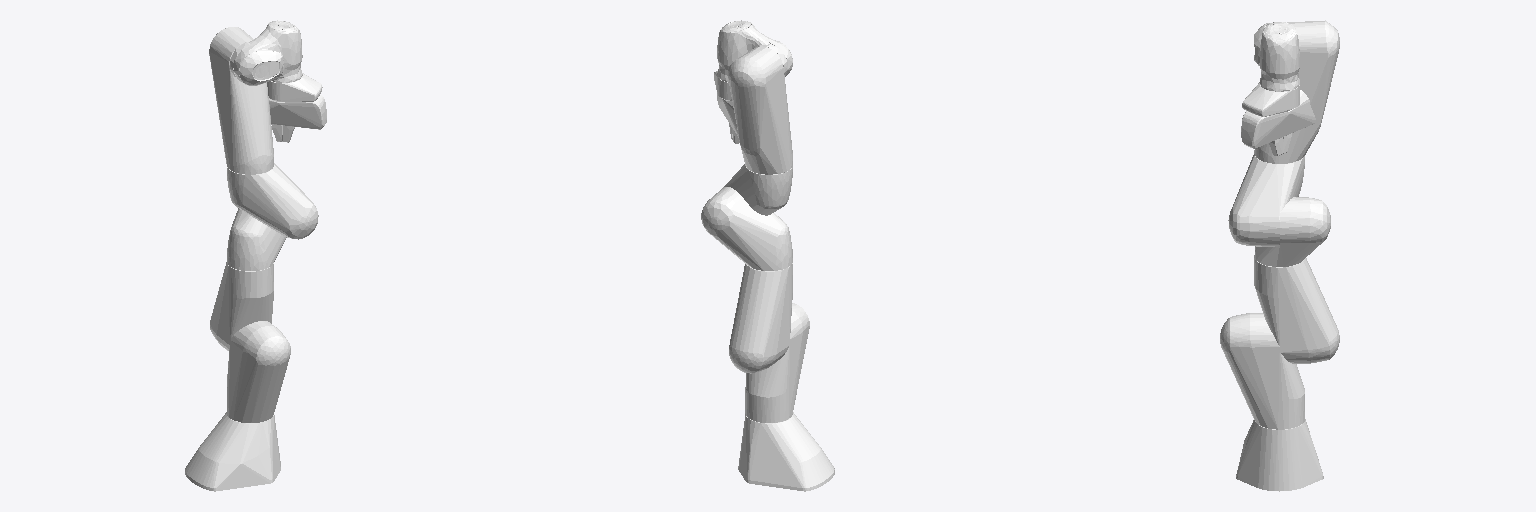
URDF robot description (panda):
<?xml version="1.0" ?>
<!-- =================================================================================== -->
<!-- |    This document was autogenerated by xacro from panda_arm_hand.urdf.xacro      | -->
<!-- |    EDITING THIS FILE BY HAND IS NOT RECOMMENDED                                 | -->
<!-- =================================================================================== -->
<robot name="panda" xmlns:xacro="http://www.ros.org/wiki/xacro">
  <link name="panda_link0">
  	<inertial>
      <origin rpy="0 0 0" xyz="0 0 0.05"/>
       <mass value="2.9"/>
       <inertia ixx="0.1" ixy="0" ixz="0" iyy="0.1" iyz="0" izz="0.1"/>
    </inertial>
    <visual>
      <geometry>
        <mesh filename="package://percept/assets/robots/franka_panda/meshes/collision/link0.obj"/>
      </geometry>
      <material name="panda_white">
    		<color rgba="1. 1. 1. 1."/>
  		</material>
    </visual>
    <collision>
      <geometry>
        <mesh filename="package://percept/assets/robots/franka_panda/meshes/collision/link0.obj"/>
      </geometry>
      <material name="panda_white"/>
    </collision>
  </link>
  <link name="panda_link1">
  	<inertial>
      <origin rpy="0 0 0" xyz="0 -0.04 -0.05"/>
       <mass value="2.7"/>
       <inertia ixx="0.1" ixy="0" ixz="0" iyy="0.1" iyz="0" izz="0.1"/>
    </inertial>
    <visual>
      <geometry>
        <mesh filename="package://percept/assets/robots/franka_panda/meshes/visual/link1.obj"/>
      </geometry>
      <material name="panda_white"/>
    </visual>
    <collision>
      <geometry>
        <mesh filename="package://percept/assets/robots/franka_panda/meshes/collision/link1.obj"/>
      </geometry>
      <material name="panda_white"/>
    </collision>
  </link>
  <joint name="panda_joint1" type="revolute">
    <safety_controller k_position="100.0" k_velocity="40.0" soft_lower_limit="-2.8973" soft_upper_limit="2.8973"/>
    <origin rpy="0 0 0" xyz="0 0 0.333"/>
    <parent link="panda_link0"/>
    <child link="panda_link1"/>
    <axis xyz="0 0 1"/>
    <limit effort="87" lower="-2.9671" upper="2.9671" velocity="2.1750"/>
  </joint>
  <link name="panda_link2">
  	<inertial>
      <origin rpy="0 0 0" xyz="0 -0.04 0.06"/>
       <mass value="2.73"/>
       <inertia ixx="0.1" ixy="0" ixz="0" iyy="0.1" iyz="0" izz="0.1"/>
    </inertial>
    <visual>
      <geometry>
        <mesh filename="package://percept/assets/robots/franka_panda/meshes/visual/link2.obj"/>
      </geometry>
      <material name="panda_white"/>
    </visual>
    <collision>
      <geometry>
        <mesh filename="package://percept/assets/robots/franka_panda/meshes/collision/link2.obj"/>
      </geometry>
      <material name="panda_white"/>
    </collision>
  </link>
  <joint name="panda_joint2" type="revolute">
    <safety_controller k_position="100.0" k_velocity="40.0" soft_lower_limit="-1.7628" soft_upper_limit="1.7628"/>
    <origin rpy="-1.57079632679 0 0" xyz="0 0 0"/>
    <parent link="panda_link1"/>
    <child link="panda_link2"/>
    <axis xyz="0 0 1"/>
    <limit effort="87" lower="-1.8326" upper="1.8326" velocity="2.1750"/>
  </joint>
  <link name="panda_link3">
	  <inertial>
      <origin rpy="0 0 0" xyz="0.01 0.01 -0.05"/>
       <mass value="2.04"/>
       <inertia ixx="0.1" ixy="0" ixz="0" iyy="0.1" iyz="0" izz="0.1"/>
    </inertial>
    <visual>
      <geometry>
        <mesh filename="package://percept/assets/robots/franka_panda/meshes/visual/link3.obj"/>
      </geometry>
      <material name="panda_red">
    		<color rgba="1. 1. 1. 1."/>
  		</material>
    </visual>
    <collision>
      <geometry>
        <mesh filename="package://percept/assets/robots/franka_panda/meshes/collision/link3.obj"/>
      </geometry>
    </collision>
  </link>
  <joint name="panda_joint3" type="revolute">
    <safety_controller k_position="100.0" k_velocity="40.0" soft_lower_limit="-2.8973" soft_upper_limit="2.8973"/>
    <origin rpy="1.57079632679 0 0" xyz="0 -0.316 0"/>
    <parent link="panda_link2"/>
    <child link="panda_link3"/>
    <axis xyz="0 0 1"/>
    <limit effort="87" lower="-2.9671" upper="2.9671" velocity="2.1750"/>
  </joint>
  <link name="panda_link4">
  	<inertial>
      <origin rpy="0 0 0" xyz="-0.03 0.03 0.02"/>
       <mass value="2.08"/>
       <inertia ixx="0.1" ixy="0" ixz="0" iyy="0.1" iyz="0" izz="0.1"/>
    </inertial>
    <visual>
      <geometry>
        <mesh filename="package://percept/assets/robots/franka_panda/meshes/visual/link4.obj"/>
      </geometry>
      <material name="panda_white"/>
    </visual>
    <collision>
      <geometry>
        <mesh filename="package://percept/assets/robots/franka_panda/meshes/collision/link4.obj"/>
      </geometry>
      <material name="panda_white"/>
    </collision>
  </link>
  <joint name="panda_joint4" type="revolute">
    <safety_controller k_position="100.0" k_velocity="40.0" soft_lower_limit="-3.0718" soft_upper_limit="-0.0698"/>
    <origin rpy="1.57079632679 0 0" xyz="0.0825 0 0"/>
    <parent link="panda_link3"/>
    <child link="panda_link4"/>
    <axis xyz="0 0 1"/>
    <limit effort="87" lower="-3.1416" upper="0.0" velocity="2.1750"/>
  </joint>
  <link name="panda_link5">
  	<inertial>
      <origin rpy="0 0 0" xyz="0 0.04 -0.12"/>
       <mass value="3"/>
       <inertia ixx="0.1" ixy="0" ixz="0" iyy="0.1" iyz="0" izz="0.1"/>
    </inertial>
    <visual>
      <geometry>
        <mesh filename="package://percept/assets/robots/franka_panda/meshes/visual/link5.obj"/>
      </geometry>
      <material name="panda_white"/>
    </visual>
    <collision>
      <geometry>
        <mesh filename="package://percept/assets/robots/franka_panda/meshes/collision/link5.obj"/>
      </geometry>
      <material name="panda_white"/>
    </collision>
  </link>
  <joint name="panda_joint5" type="revolute">
    <safety_controller k_position="100.0" k_velocity="40.0" soft_lower_limit="-2.8973" soft_upper_limit="2.8973"/>
    <origin rpy="-1.57079632679 0 0" xyz="-0.0825 0.384 0"/>
    <parent link="panda_link4"/>
    <child link="panda_link5"/>
    <axis xyz="0 0 1"/>
    <limit effort="12" lower="-2.9671" upper="2.9671" velocity="2.6100"/>
  </joint>
  <link name="panda_link6">
  	<inertial>
      <origin rpy="0 0 0" xyz="0.04 0 0"/>
       <mass value="1.3"/>
       <inertia ixx="0.1" ixy="0" ixz="0" iyy="0.1" iyz="0" izz="0.1"/>
    </inertial>
    <visual>
      <geometry>
        <mesh filename="package://percept/assets/robots/franka_panda/meshes/visual/link6.obj"/>
      </geometry>
      <material name="panda_white"/>
    </visual>
    <collision>
      <geometry>
        <mesh filename="package://percept/assets/robots/franka_panda/meshes/collision/link6.obj"/>
      </geometry>
      <material name="panda_white"/>
    </collision>
  </link>
  <joint name="panda_joint6" type="revolute">
    <safety_controller k_position="100.0" k_velocity="40.0" soft_lower_limit="-0.0175" soft_upper_limit="3.7525"/>
    <origin rpy="1.57079632679 0 0" xyz="0 0 0"/>
    <parent link="panda_link5"/>
    <child link="panda_link6"/>
    <axis xyz="0 0 1"/>
    <limit effort="12" lower="-0.0873" upper="3.8223" velocity="2.6100"/>
  </joint>
  <link name="panda_link7">
  	<inertial>
      <origin rpy="0 0 0" xyz="0 0 0.08"/>
       <mass value=".2"/>
       <inertia ixx="0.1" ixy="0" ixz="0" iyy="0.1" iyz="0" izz="0.1"/>
    </inertial>
    <visual>
      <geometry>
        <mesh filename="package://percept/assets/robots/franka_panda/meshes/collision/link7.obj"/>
      </geometry>
      <material name="panda_white"/>
    </visual>
    <collision>
      <geometry>
        <mesh filename="package://percept/assets/robots/franka_panda/meshes/collision/link7.obj"/>
      </geometry>
      <material name="panda_white"/>
    </collision>
  </link>
  <joint name="panda_joint7" type="revolute">
    <safety_controller k_position="100.0" k_velocity="40.0" soft_lower_limit="-2.8973" soft_upper_limit="2.8973"/>
    <origin rpy="1.57079632679 0 0" xyz="0.088 0 0"/>
    <parent link="panda_link6"/>
    <child link="panda_link7"/>
    <axis xyz="0 0 1"/>
    <limit effort="12" lower="-2.9671" upper="2.9671" velocity="2.6100"/>
  </joint>
  <link name="panda_link8">
  	 <inertial>
      <origin rpy="0 0 0" xyz="0 0 0"/>
       <mass value="0.0"/>
       <inertia ixx="0.1" ixy="0" ixz="0" iyy="0.1" iyz="0" izz="0.1"/>
    </inertial>
  </link>
  <joint name="panda_joint8" type="fixed">
    <origin rpy="0 0 0" xyz="0 0 0.107"/>
    <parent link="panda_link7"/>
    <child link="panda_link8"/>
    <axis xyz="0 0 0"/>
  </joint>
  <joint name="panda_hand_joint" type="fixed">
    <parent link="panda_link8"/>
    <child link="panda_hand"/>
    <origin rpy="0 0 -0.785398163397" xyz="0 0 0"/>
  </joint>
  <link name="panda_hand">
  	<inertial>
      <origin rpy="0 0 0" xyz="0 0 0.04"/>
       <mass value=".81"/>
       <inertia ixx="0.1" ixy="0" ixz="0" iyy="0.1" iyz="0" izz="0.1"/>
    </inertial>
    <visual>
      <geometry>
        <mesh filename="package://percept/assets/robots/franka_panda/meshes/visual/hand.obj"/>
      </geometry>
      <material name="panda_white"/>
    </visual>
    <collision>
      <geometry>
        <mesh filename="package://percept/assets/robots/franka_panda/meshes/collision/hand.obj"/>
      </geometry>
      <material name="panda_white"/>
    </collision>
  </link>
  <link name="panda_leftfinger">
       <contact>
      <friction_anchor/>
      <stiffness value="30000.0"/>
      <damping value="1000.0"/>
      <spinning_friction value="0.1"/>
      <lateral_friction value="1.0"/>
    </contact>
  	<inertial>
      <origin rpy="0 0 0" xyz="0 0.01 0.02"/>
       <mass value="0.1"/>
       <inertia ixx="0.1" ixy="0" ixz="0" iyy="0.1" iyz="0" izz="0.1"/>
    </inertial>
    <visual>
      <geometry>
        <mesh filename="package://percept/assets/robots/franka_panda/meshes/visual/finger.obj"/>
      </geometry>
      <material name="panda_white"/>
    </visual>
    <collision>
      <geometry>
        <mesh filename="package://percept/assets/robots/franka_panda/meshes/collision/finger.obj"/>
      </geometry>
      <material name="panda_white"/>
    </collision>
  </link>
  <link name="panda_rightfinger">
        <contact>
      <friction_anchor/>
      <stiffness value="30000.0"/>
      <damping value="1000.0"/>
      <spinning_friction value="0.1"/>
      <lateral_friction value="1.0"/>
    </contact>

  	<inertial>
      <origin rpy="0 0 0" xyz="0 -0.01 0.02"/>
       <mass value="0.1"/>
       <inertia ixx="0.1" ixy="0" ixz="0" iyy="0.1" iyz="0" izz="0.1"/>
    </inertial>
    <visual>
      <origin rpy="0 0 3.14159265359" xyz="0 0 0"/>
      <geometry>
        <mesh filename="package://percept/assets/robots/franka_panda/meshes/visual/finger.obj"/>
      </geometry>
      <material name="panda_white"/>
    </visual>
    <collision>
      <origin rpy="0 0 3.14159265359" xyz="0 0 0"/>
      <geometry>
        <mesh filename="package://percept/assets/robots/franka_panda/meshes/collision/finger.obj"/>
      </geometry>
      <material name="panda_white"/>
    </collision>
  </link>
  <joint name="panda_finger_joint1" type="prismatic">
    <parent link="panda_hand"/>
    <child link="panda_leftfinger"/>
    <origin rpy="0 0 0" xyz="0 0 0.0584"/>
    <axis xyz="0 1 0"/>
    <limit effort="20" lower="0.0" upper="0.04" velocity="0.2"/>
  </joint>
  <joint name="panda_finger_joint2" type="prismatic">
    <parent link="panda_hand"/>
    <child link="panda_rightfinger"/>
    <origin rpy="0 0 0" xyz="0 0 0.0584"/>
    <axis xyz="0 -1 0"/>
    <limit effort="20" lower="0.0" upper="0.04" velocity="0.2"/>
    <mimic joint="panda_finger_joint1"/>
  </joint>
   <link name="panda_grasptarget">
 <inertial>
      <origin rpy="0 0 0" xyz="0 0 0"/>
       <mass value="0.0"/>
       <inertia ixx="0.1" ixy="0" ixz="0" iyy="0.1" iyz="0" izz="0.1"/>
    </inertial>
   </link>
   <joint name="panda_grasptarget_hand" type="fixed">
    <parent link="panda_hand"/>
    <child link="panda_grasptarget"/>
    <origin rpy="0 0 0" xyz="0 0 0.105"/>
  </joint>
  
</robot>

--- Facts derived from the render (not from the file) ---
Views: 3 orthographic renders of the robot side by side, from view 1: azimuth 30°, elevation 25°; view 2: azimuth 150°, elevation 25°; view 3: azimuth 270°, elevation 25°.
Model panda with 13 links and 12 joints (7 revolute, 2 prismatic, 3 fixed), rooted at panda_link0, posed all joints at 0.
Links seen in each view (by area): view 1: panda_link5, panda_link0, panda_link1, panda_link4, panda_link2, panda_link6, panda_link3, panda_hand, panda_link7; view 2: panda_link5, panda_link2, panda_link0, panda_link3, panda_link1, panda_link6, panda_link4; view 3: panda_link1, panda_link2, panda_link0, panda_link4, panda_link5, panda_link3, panda_link6, panda_hand, panda_link7.
Link boxes in pixels (x1=…): panda_link5: x1=209, y1=27, x2=273, y2=174; panda_link0: x1=185, y1=412, x2=280, y2=491; panda_link1: x1=227, y1=321, x2=290, y2=422; panda_link4: x1=227, y1=163, x2=318, y2=239; panda_link2: x1=210, y1=262, x2=273, y2=350; panda_link6: x1=230, y1=20, x2=302, y2=85; panda_link3: x1=227, y1=208, x2=286, y2=270; panda_hand: x1=269, y1=95, x2=326, y2=129; panda_link7: x1=267, y1=73, x2=322, y2=101; panda_link5: x1=728, y1=46, x2=792, y2=174; panda_link2: x1=729, y1=263, x2=792, y2=373; panda_link0: x1=738, y1=412, x2=834, y2=491; panda_link3: x1=701, y1=187, x2=792, y2=270; panda_link1: x1=745, y1=303, x2=809, y2=422; panda_link6: x1=717, y1=20, x2=792, y2=82; panda_link4: x1=724, y1=164, x2=792, y2=215; panda_link1: x1=1220, y1=313, x2=1304, y2=429; panda_link2: x1=1254, y1=258, x2=1339, y2=363; panda_link0: x1=1236, y1=419, x2=1323, y2=491; panda_link4: x1=1228, y1=154, x2=1304, y2=246; panda_link5: x1=1254, y1=20, x2=1339, y2=163; panda_link3: x1=1254, y1=197, x2=1330, y2=266; panda_link6: x1=1254, y1=22, x2=1299, y2=91; panda_hand: x1=1241, y1=90, x2=1315, y2=148; panda_link7: x1=1242, y1=83, x2=1299, y2=116.
Bounding box of the posed robot: 0.3253 × 0.2593 × 1.11 m (x, y, z).
Meshes: 10 distinct files referenced, 11 mesh visuals loaded (10 OBJ).